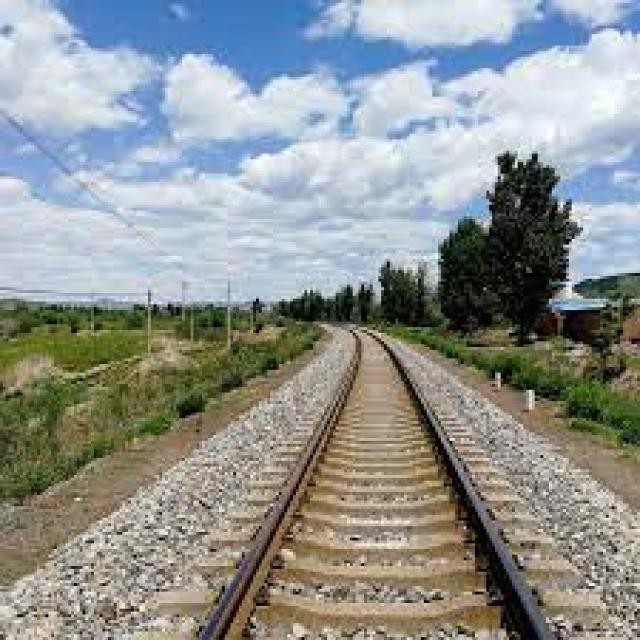rail: (182, 321, 598, 639)
